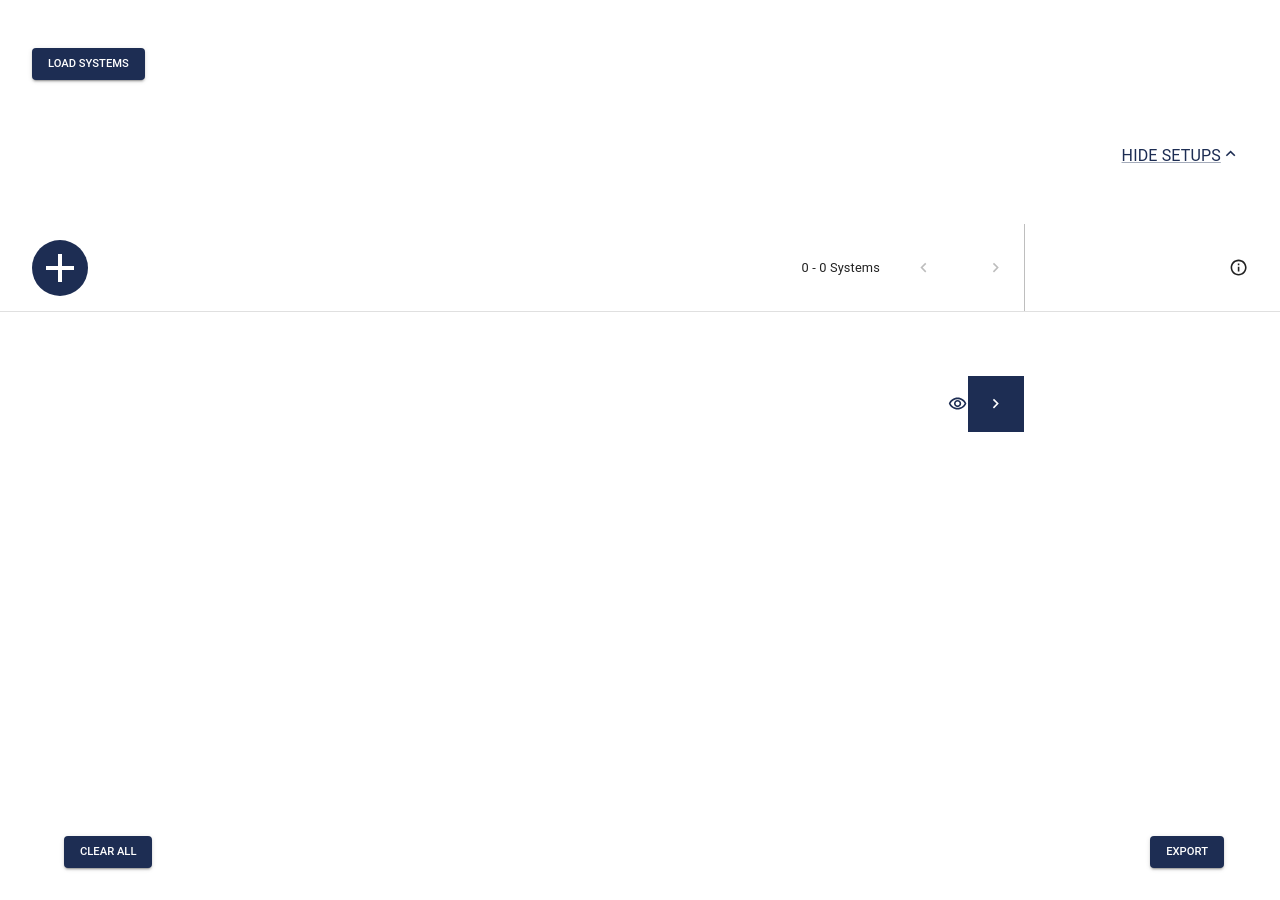
Test case: System bar and stepper tests › Given a Simulation when clicking on the chevron down icon Dropdown menu should open
Step 1. Click the button with test id "test-id-button-load" → point(88, 64), box x1=32 y1=48 x2=145 y2=80
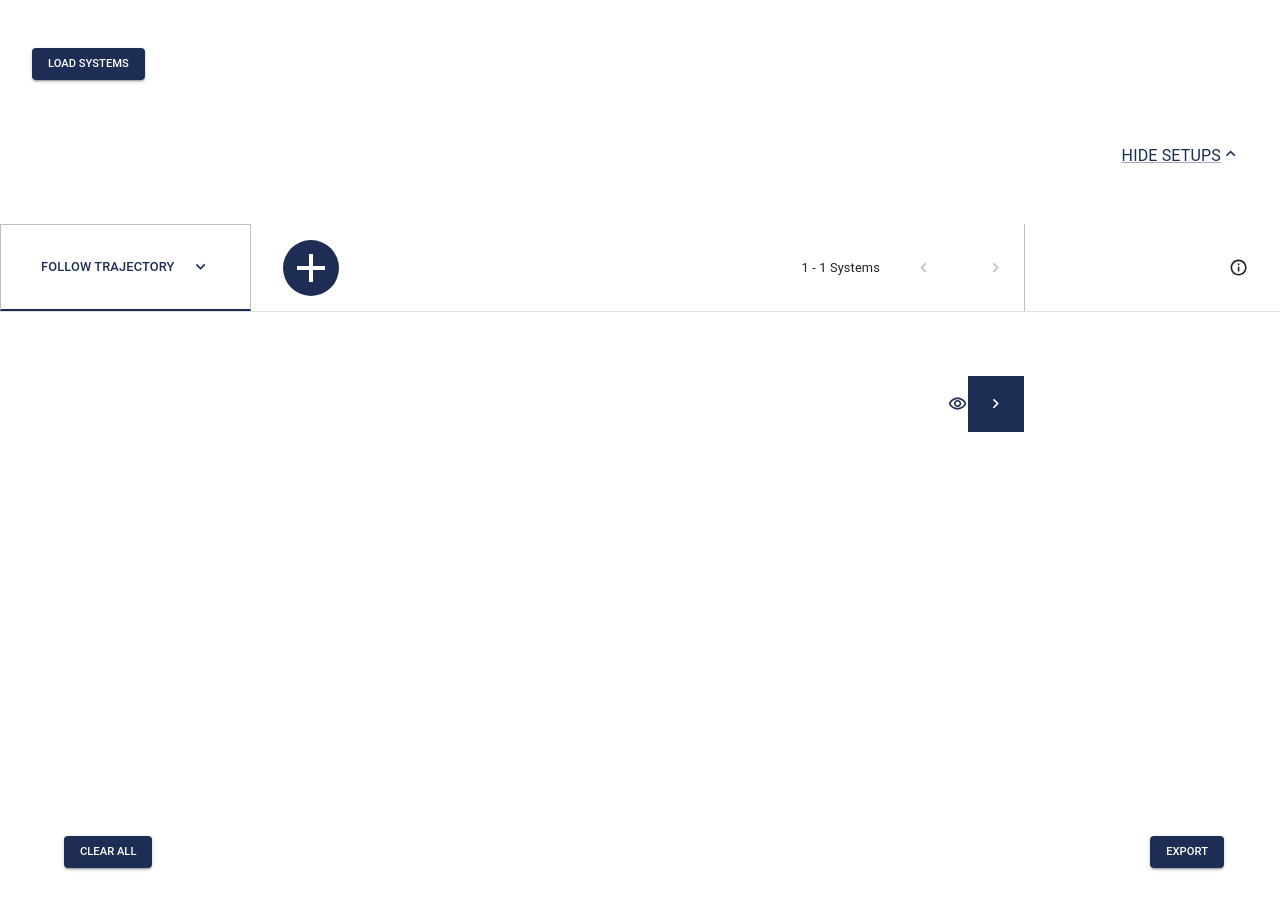
Result: the icon with test id "test-id-system-open-menu-0" is shown
Step 2. Click the icon with test id "test-id-system-open-menu-0" → point(200, 267), box x1=190 y1=257 x2=210 y2=277
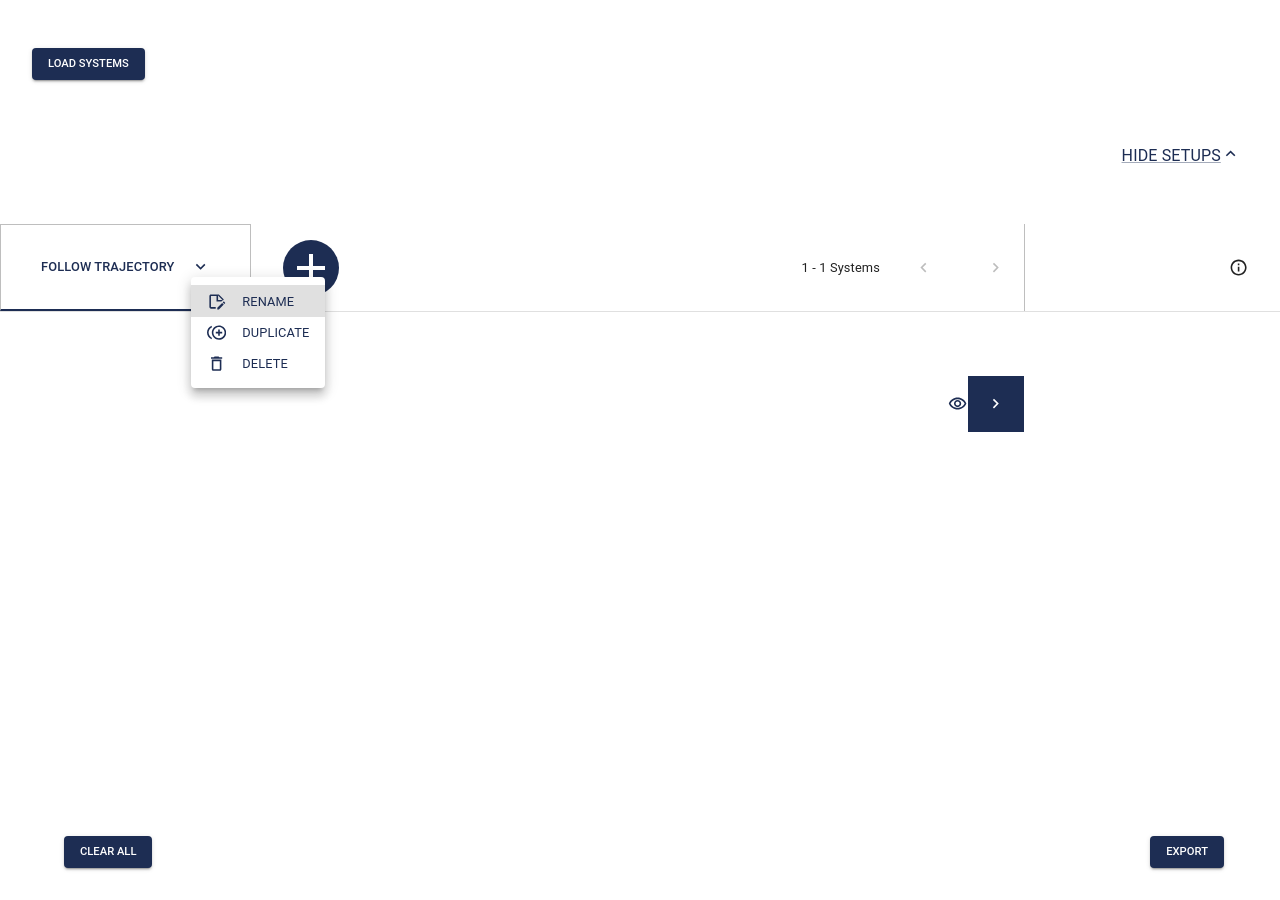
Result: the element with test id "test-id-menu-dropdown" is not empty at x1=191 y1=277 x2=326 y2=388
